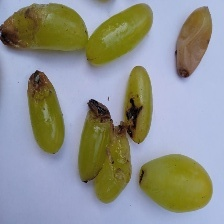grapes: (27, 31, 224, 172)
